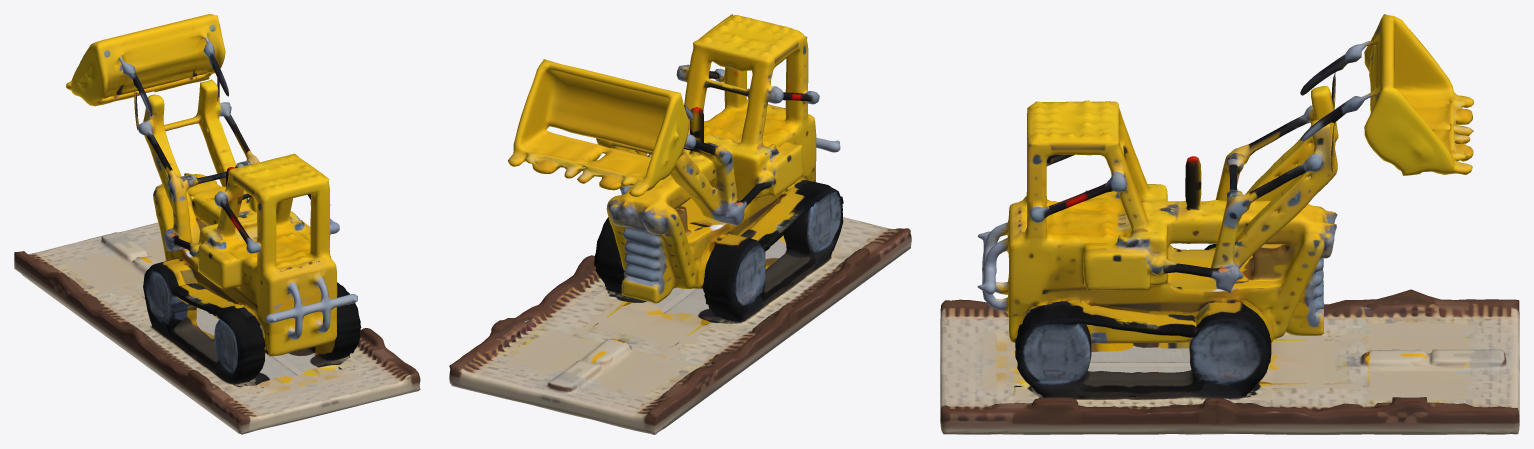
Rendered from lego.glb.
The picture shows the model from 3 angles, left to right: view 1: azimuth 30°, elevation 25°; view 2: azimuth 150°, elevation 25°; view 3: azimuth 270°, elevation 25°; orthographic projection. The views are drawn at different scales.
Parts seen in each view (by area): view 1: mesh_a416f6a493d7465ea500612903e69d3a; view 2: mesh_a416f6a493d7465ea500612903e69d3a; view 3: mesh_a416f6a493d7465ea500612903e69d3a.
Part boxes in pixels (bbox=[...]): mesh_a416f6a493d7465ea500612903e69d3a: bbox=[14, 14, 420, 434]; mesh_a416f6a493d7465ea500612903e69d3a: bbox=[449, 14, 911, 434]; mesh_a416f6a493d7465ea500612903e69d3a: bbox=[940, 14, 1519, 434].
Size of the model in its own units: 0.884 by 1.19 by 1.91.
Materials: 1 (1 with a texture image).
